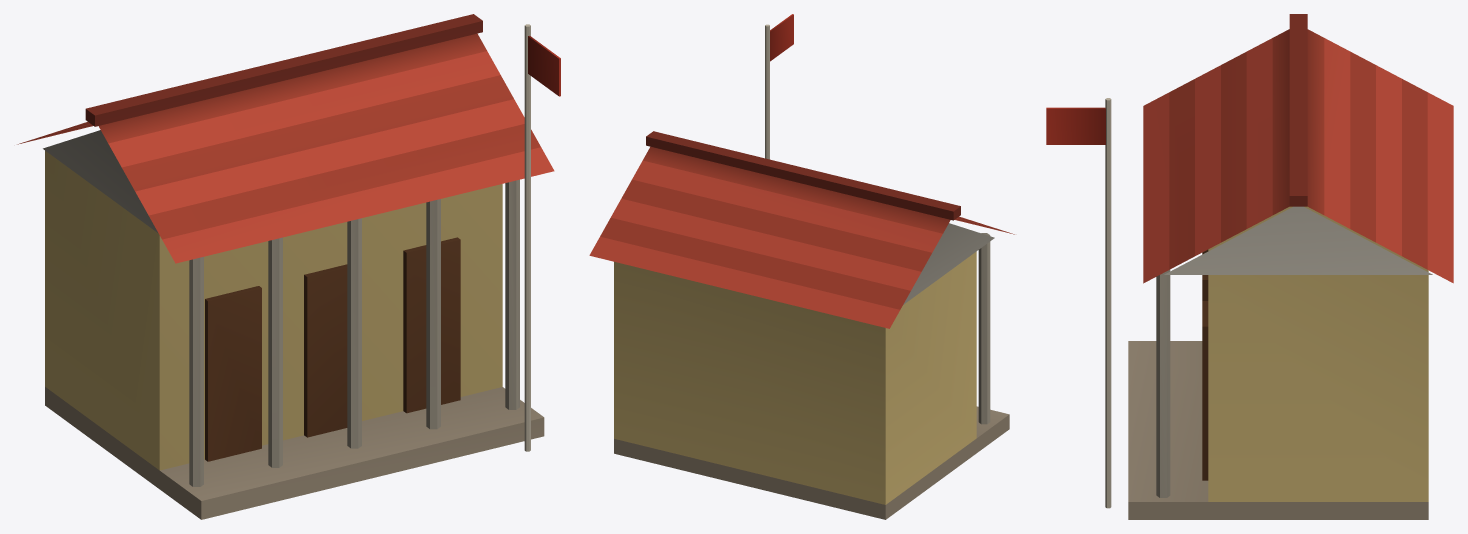
Rendered from truong-lang.glb.
3 renders of one model, left to right at view 1: azimuth 30°, elevation 25°; view 2: azimuth 150°, elevation 25°; view 3: azimuth 270°, elevation 25°, orthographic. The views are drawn at different scales.
Visible parts, largest first — view 1: truong-lang; view 2: truong-lang; view 3: truong-lang.
Part boxes in pixels (left/top/right/bottom): truong-lang: left=17, top=14, right=560, bottom=519; truong-lang: left=589, top=14, right=1014, bottom=519; truong-lang: left=1046, top=14, right=1453, bottom=519.
Size of the model in its own units: 4.3 by 4.5 by 4.07.
